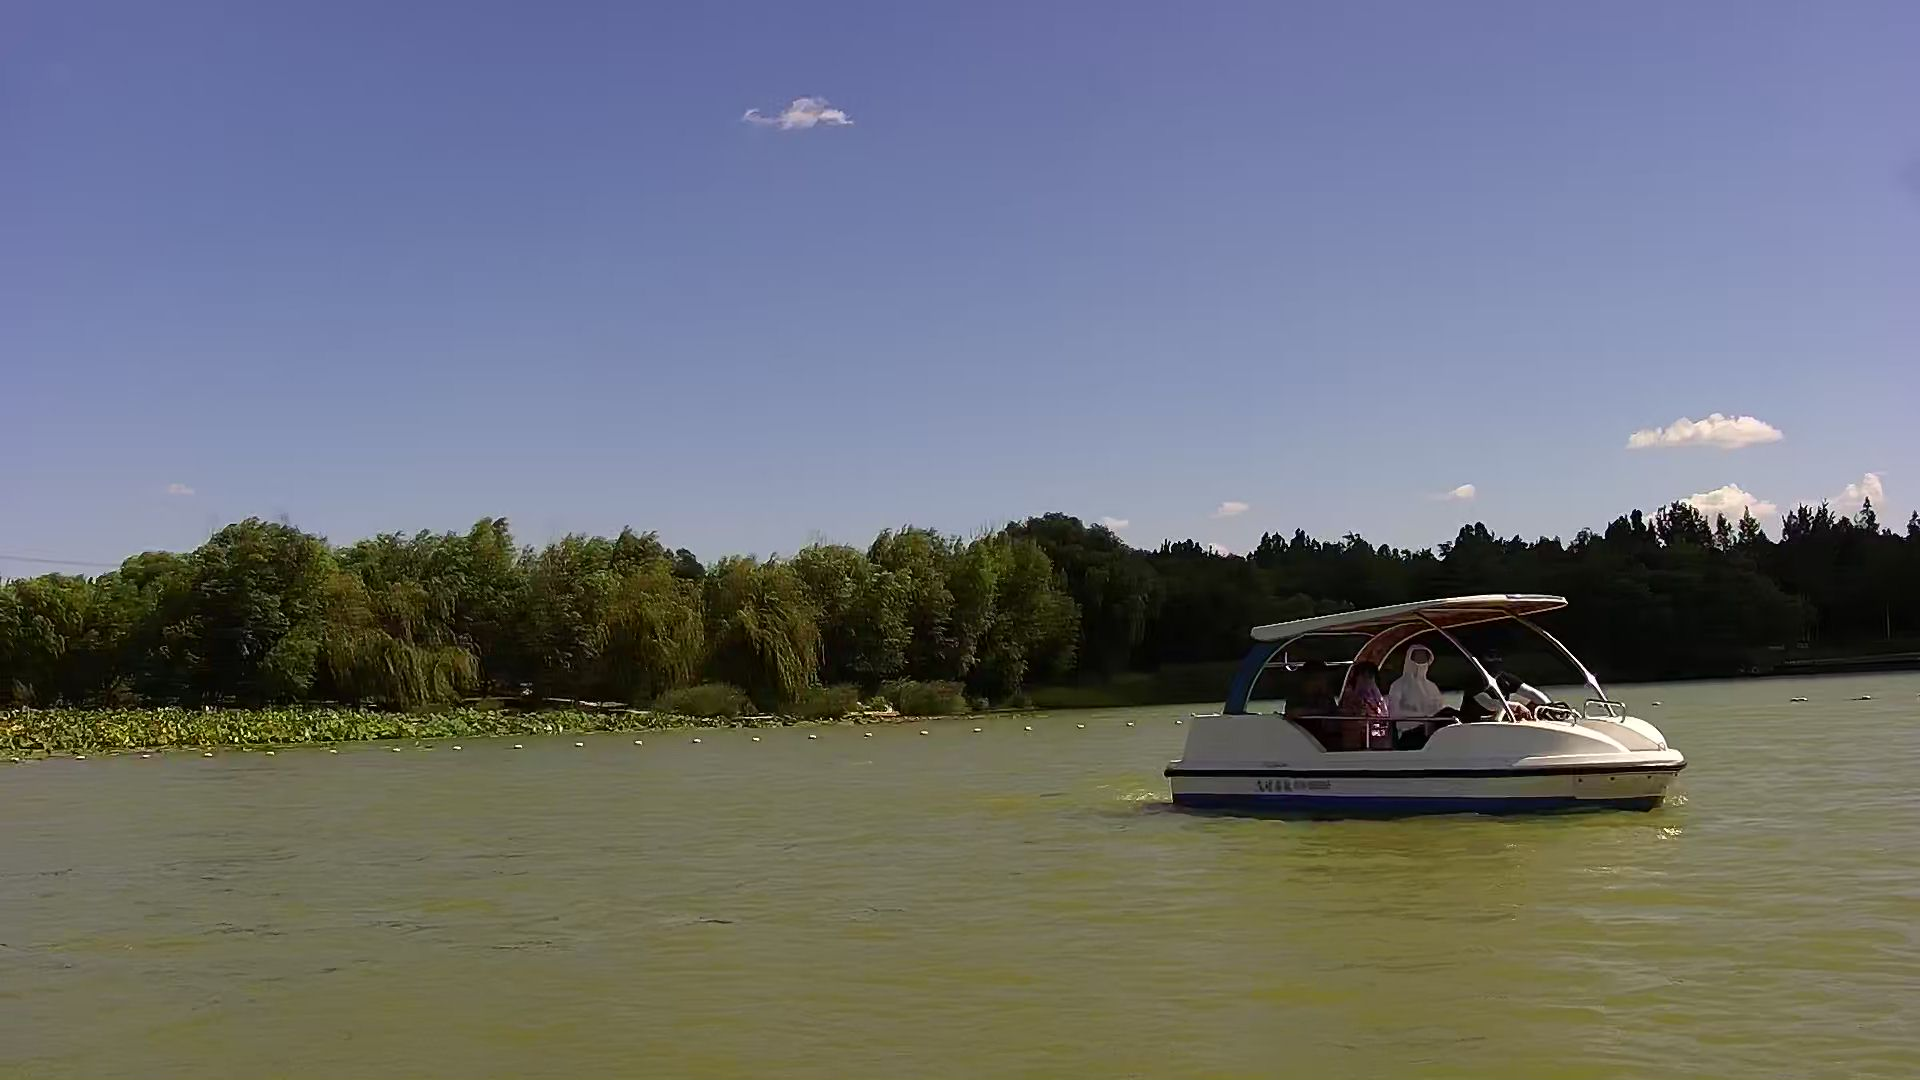boat: (1167, 595, 1714, 839)
